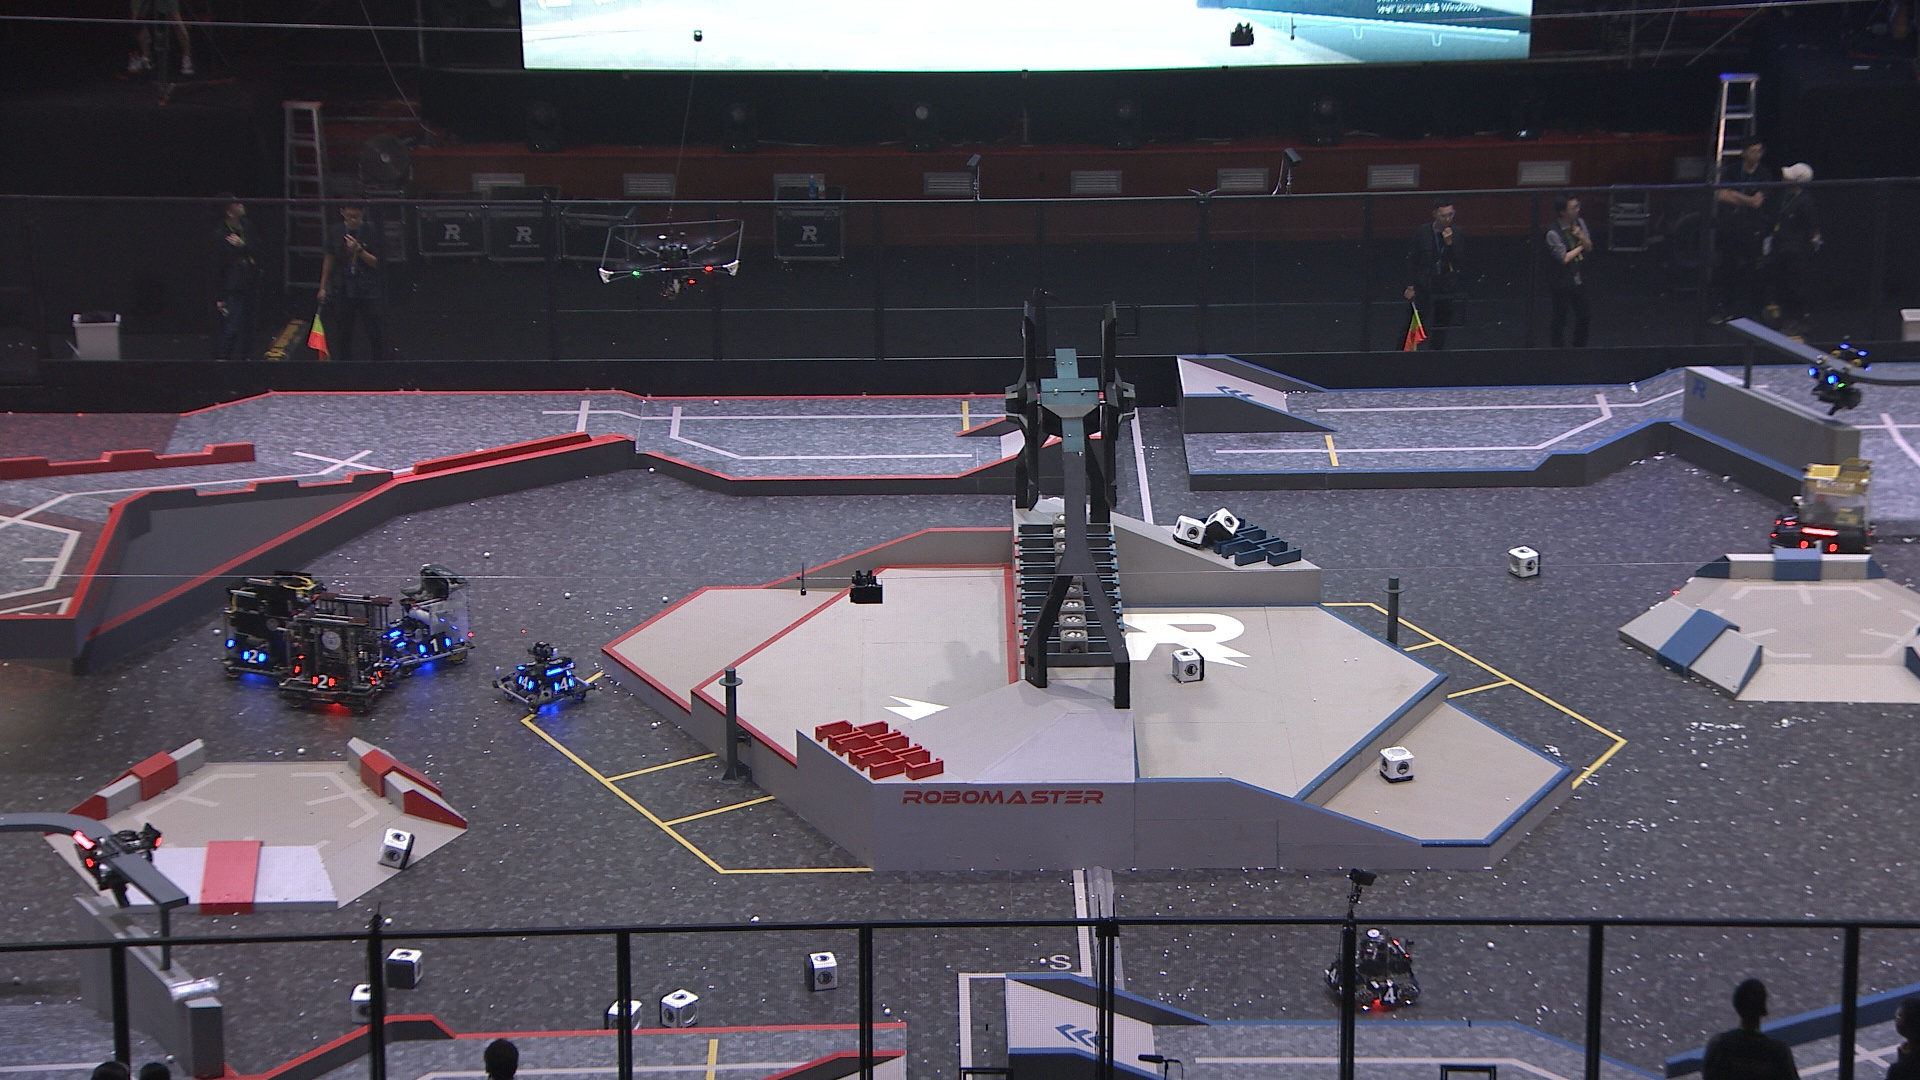armor: (1795, 535, 1840, 555), (414, 636, 452, 655), (1807, 363, 1837, 386), (73, 843, 96, 872), (306, 671, 334, 692), (549, 674, 575, 694), (239, 646, 266, 665), (514, 670, 535, 694), (1377, 986, 1404, 1004), (367, 665, 384, 688), (1782, 508, 1801, 527), (386, 629, 406, 647), (1325, 964, 1342, 984)
car: (278, 588, 396, 717), (1760, 455, 1882, 571), (224, 567, 330, 684), (382, 555, 479, 680), (1321, 926, 1424, 1011), (491, 638, 600, 713)
watcher: (67, 816, 164, 913), (1801, 330, 1874, 417)
